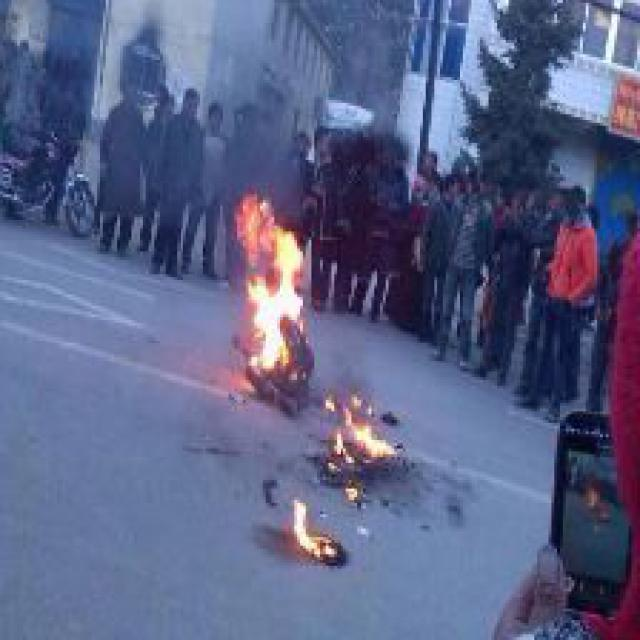fire: (225, 194, 328, 414), (323, 394, 408, 514), (286, 492, 346, 574)
